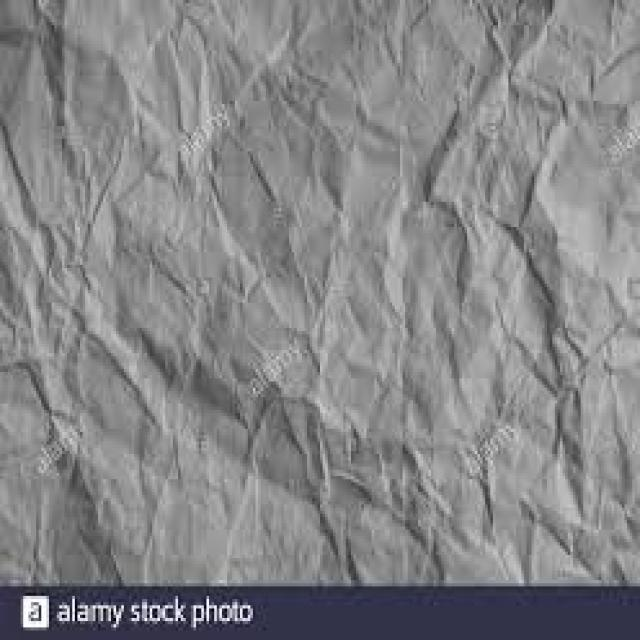paper: (0, 0, 637, 580)
